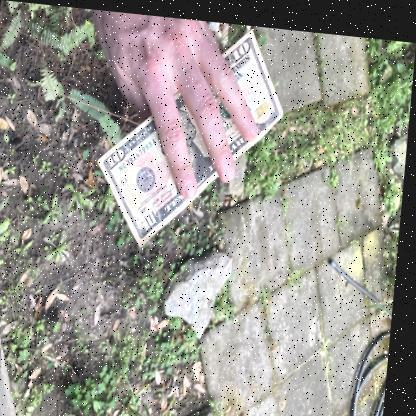ten-front: (98, 24, 286, 245)
